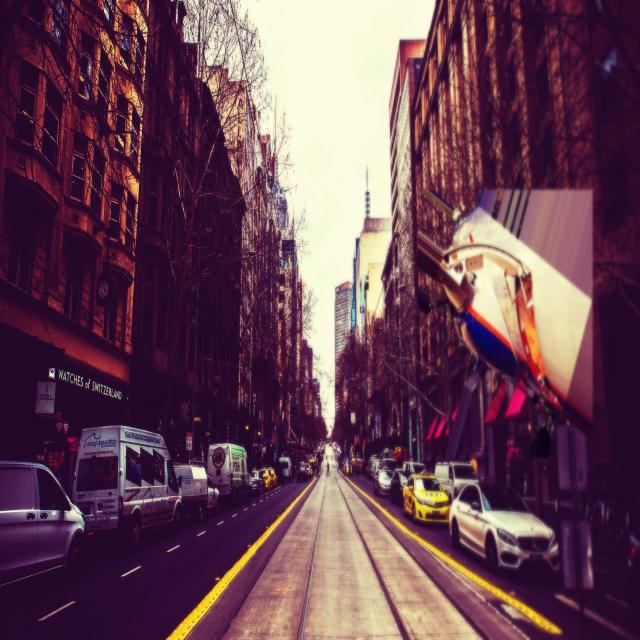airplane: (415, 185, 596, 450)
